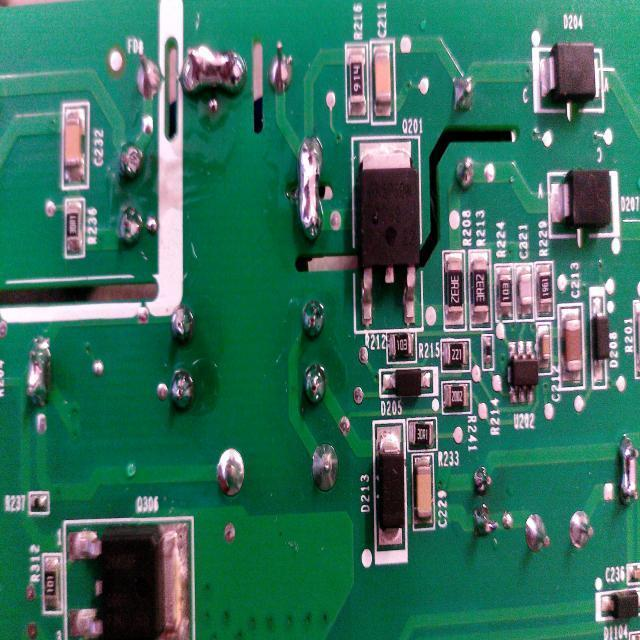Soldering shorted: (178, 36, 248, 106), (292, 119, 326, 246), (20, 344, 54, 408)
